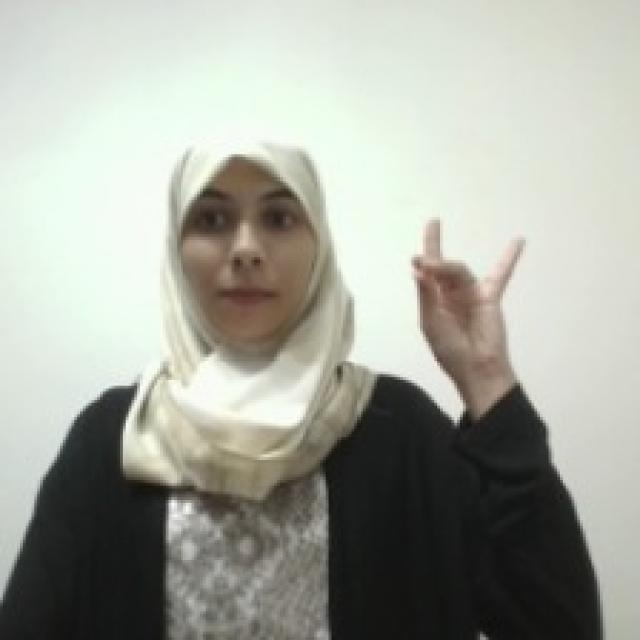Dog: (406, 212, 532, 365)
